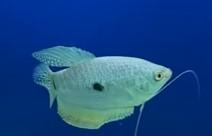Gourami: (32, 44, 201, 136)
